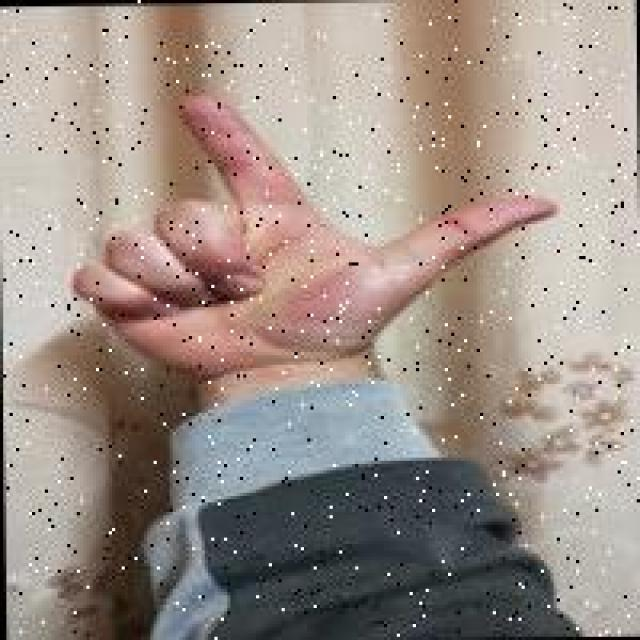L: (56, 83, 565, 374)
